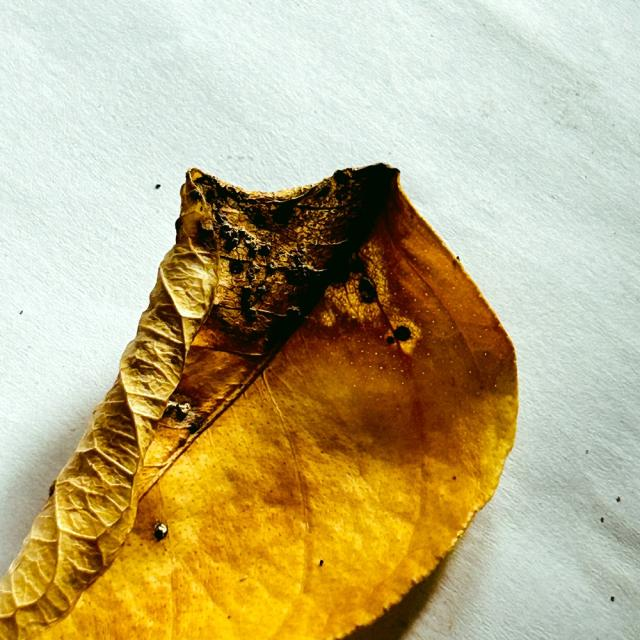DryLeaf_Lemon: (0, 164, 518, 639)
